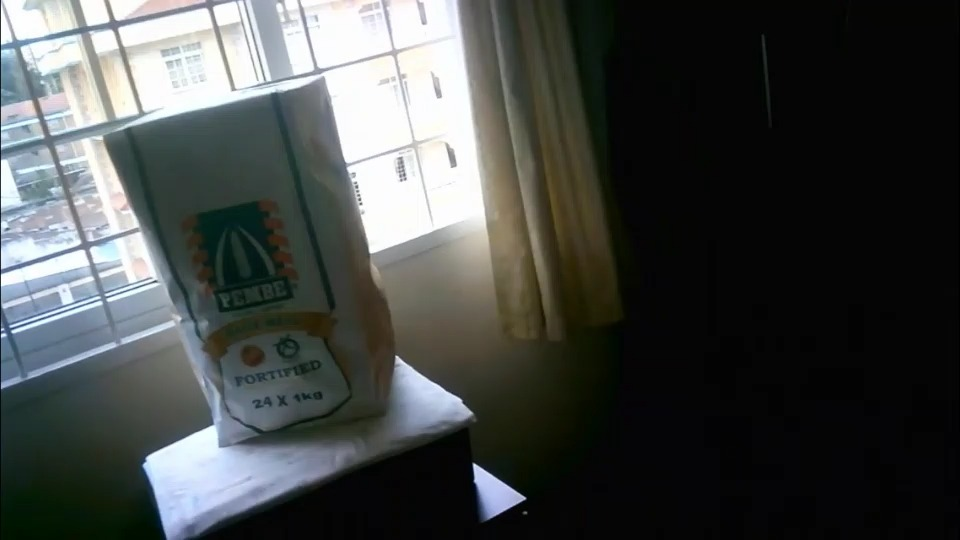maize_flour_green_label: (107, 80, 393, 431)
